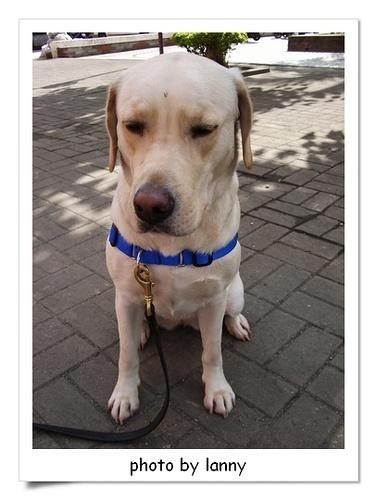dog: (101, 51, 257, 419)
